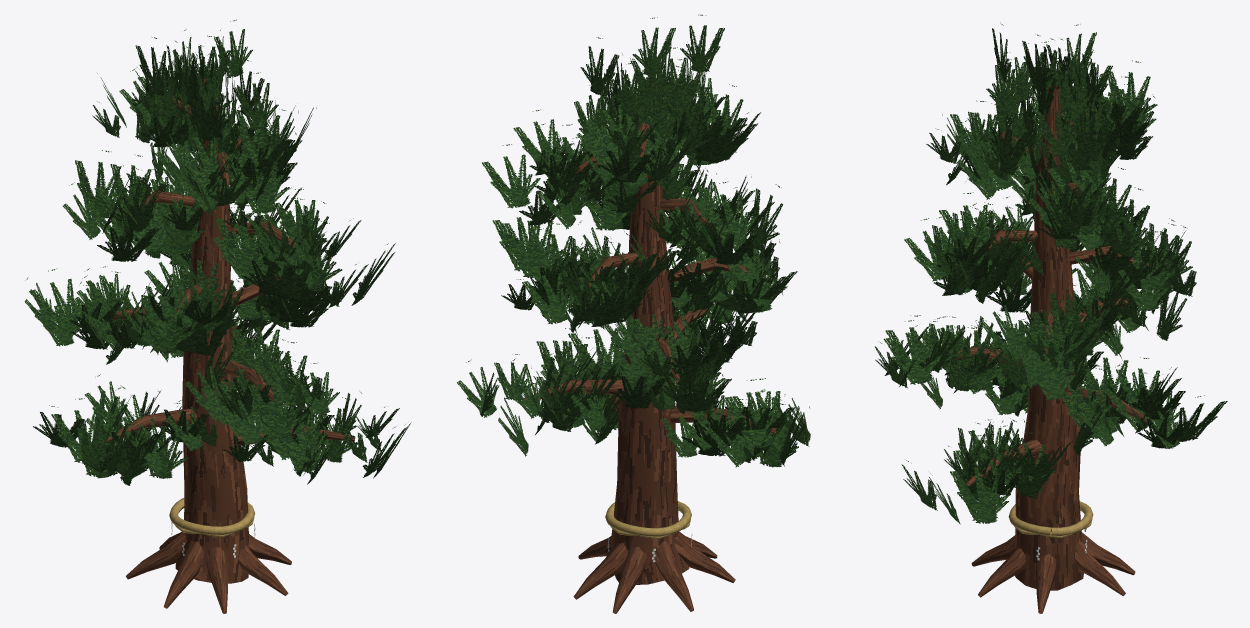
File: prop_shinboku.glb
3 renders of one model, left to right at view 1: azimuth 30°, elevation 25°; view 2: azimuth 150°, elevation 25°; view 3: azimuth 270°, elevation 25°, orthographic. The views are drawn at different scales.
Parts seen in each view (by area): view 1: prop_shinboku; view 2: prop_shinboku; view 3: prop_shinboku.
Part boxes in pixels (<box>): prop_shinboku: <box>24,19,411,613</box>; prop_shinboku: <box>457,14,810,613</box>; prop_shinboku: <box>874,22,1227,613</box>.
Size of the model in its own units: 18.44 by 27.24 by 17.28.
Materials: 4 (4 with a texture image).
